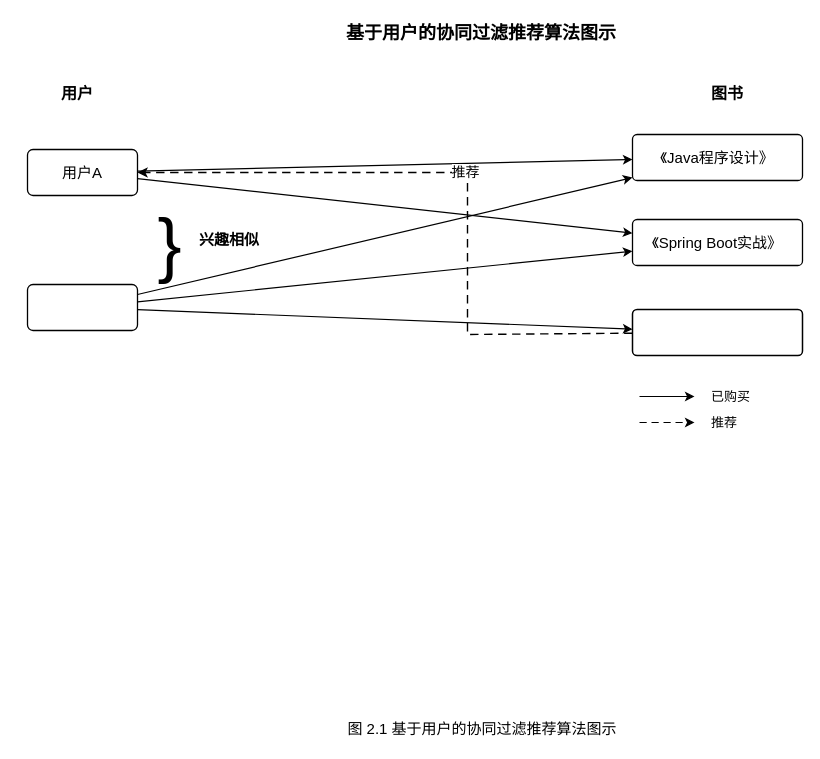
This 820x759 diagram has some shape labels left out. The centre of each missing label's shape, as x and y in pixels:
《MySQL数据库原理》: (x=717, y=332)
用户B: (x=82, y=307)
